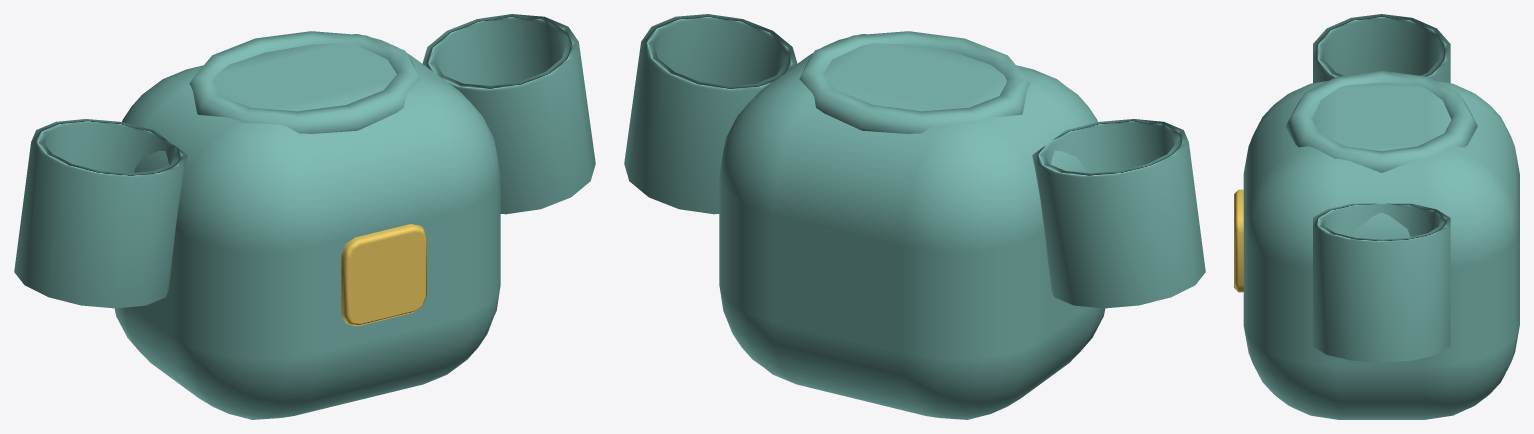
File: camper_tee.glb
3 views of the same model, side by side, from view 1: azimuth 30°, elevation 25°; view 2: azimuth 150°, elevation 25°; view 3: azimuth 270°, elevation 25° (orthographic). The views are drawn at different scales.
Parts seen in each view (by area): view 1: camper_tee_Body, camper_tee_ArmL, camper_tee_ArmR; view 2: camper_tee_Body, camper_tee_ArmL, camper_tee_ArmR; view 3: camper_tee_Body, camper_tee_ArmR, camper_tee_ArmL.
Boxes of the visible parts, x1,y1,x2,y2 form: camper_tee_Body: [114, 31, 500, 419]; camper_tee_ArmL: [14, 119, 187, 308]; camper_tee_ArmR: [422, 14, 595, 214]; camper_tee_Body: [719, 31, 1105, 419]; camper_tee_ArmL: [1032, 119, 1205, 308]; camper_tee_ArmR: [624, 14, 797, 214]; camper_tee_Body: [1234, 70, 1519, 419]; camper_tee_ArmR: [1313, 203, 1450, 362]; camper_tee_ArmL: [1313, 14, 1450, 83].
Size of the model in its own units: 0.6053 by 0.3119 by 0.3.
